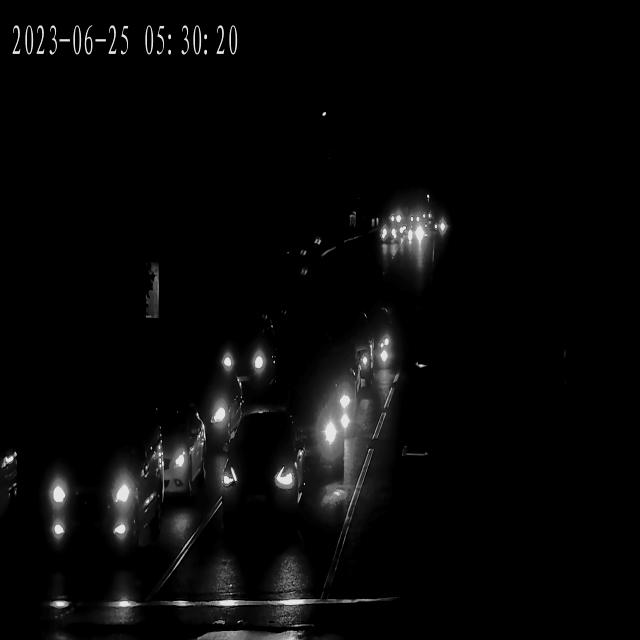Car: (44, 413, 161, 558), (221, 415, 299, 535), (286, 384, 346, 480), (152, 402, 205, 500), (301, 367, 368, 437), (223, 313, 274, 391), (190, 366, 244, 437), (326, 335, 373, 402), (0, 416, 25, 524), (356, 314, 398, 376), (381, 227, 396, 251), (408, 228, 422, 250), (431, 218, 444, 239), (388, 208, 404, 221), (409, 220, 430, 222)
